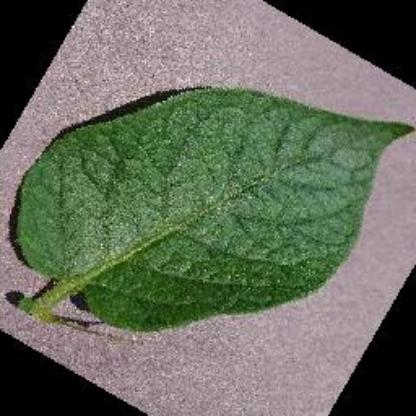Healthy-plant: (8, 86, 410, 350)
